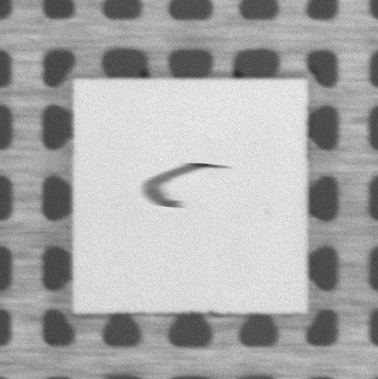DIE_INK: (139, 162, 230, 208)
